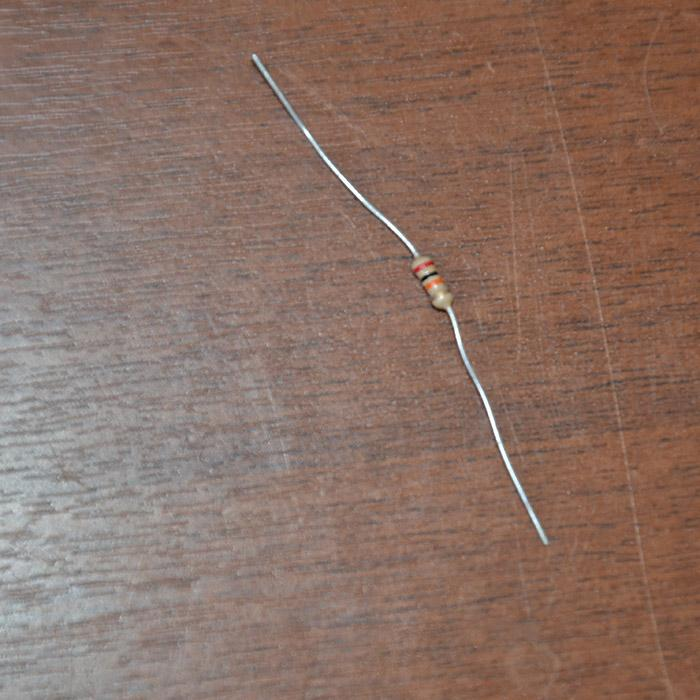resistor: (409, 252, 453, 311)
